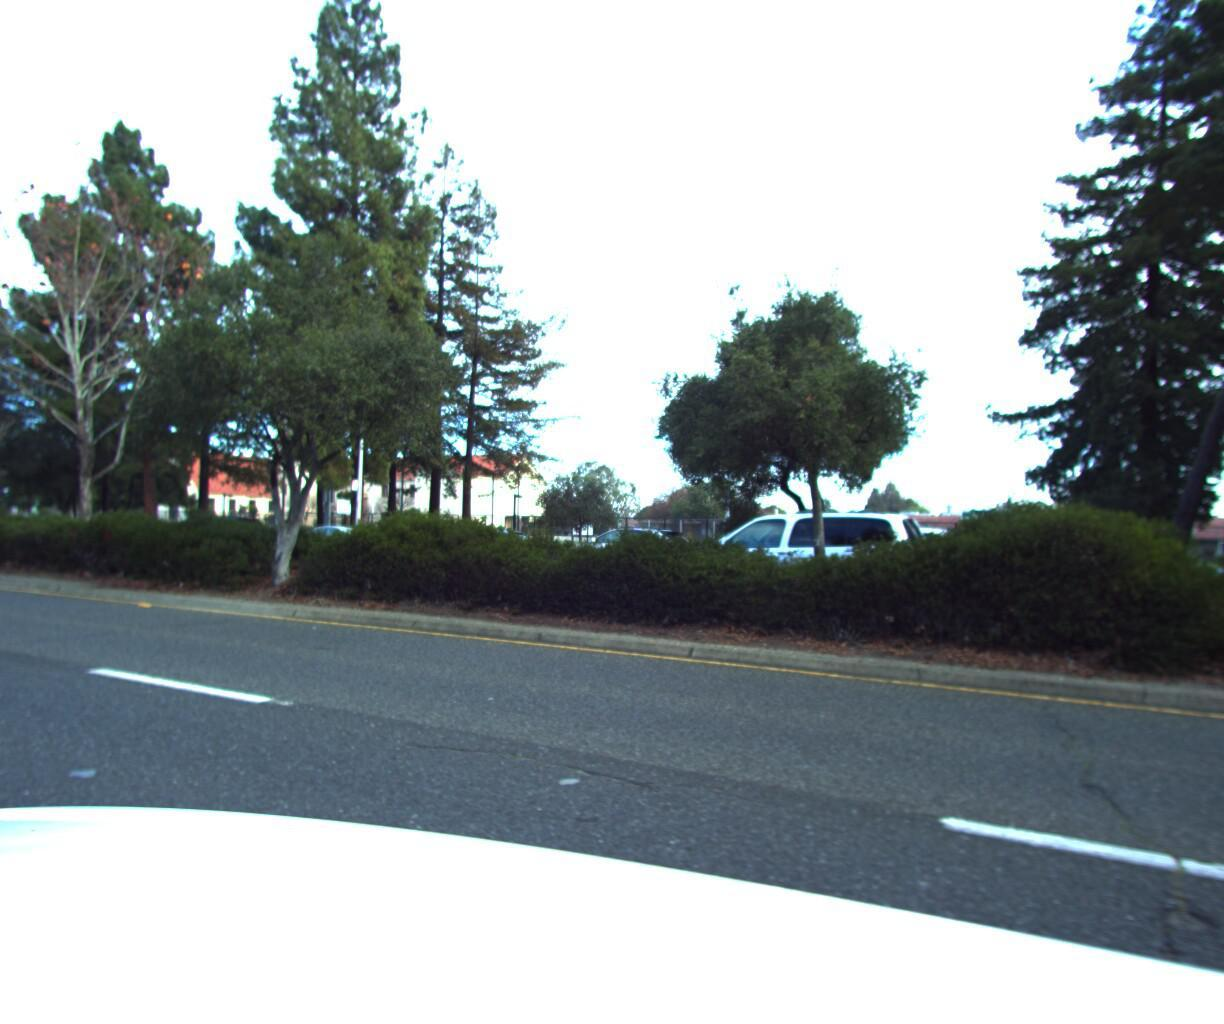car: (677, 501, 946, 598), (768, 515, 1006, 608), (554, 518, 705, 580), (406, 520, 544, 569), (268, 516, 388, 563), (1163, 539, 1224, 621)
